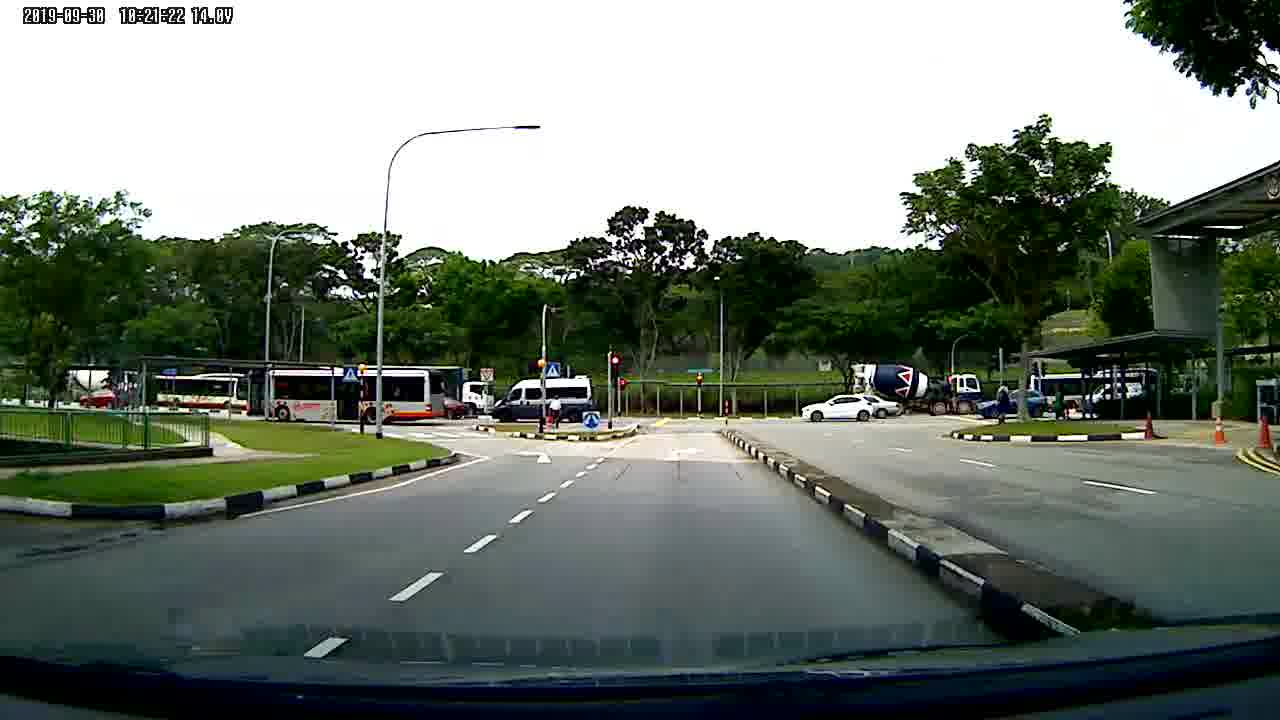bus: (244, 366, 444, 429), (135, 369, 252, 417)
car: (800, 392, 874, 425), (74, 387, 129, 411), (861, 396, 907, 416)
